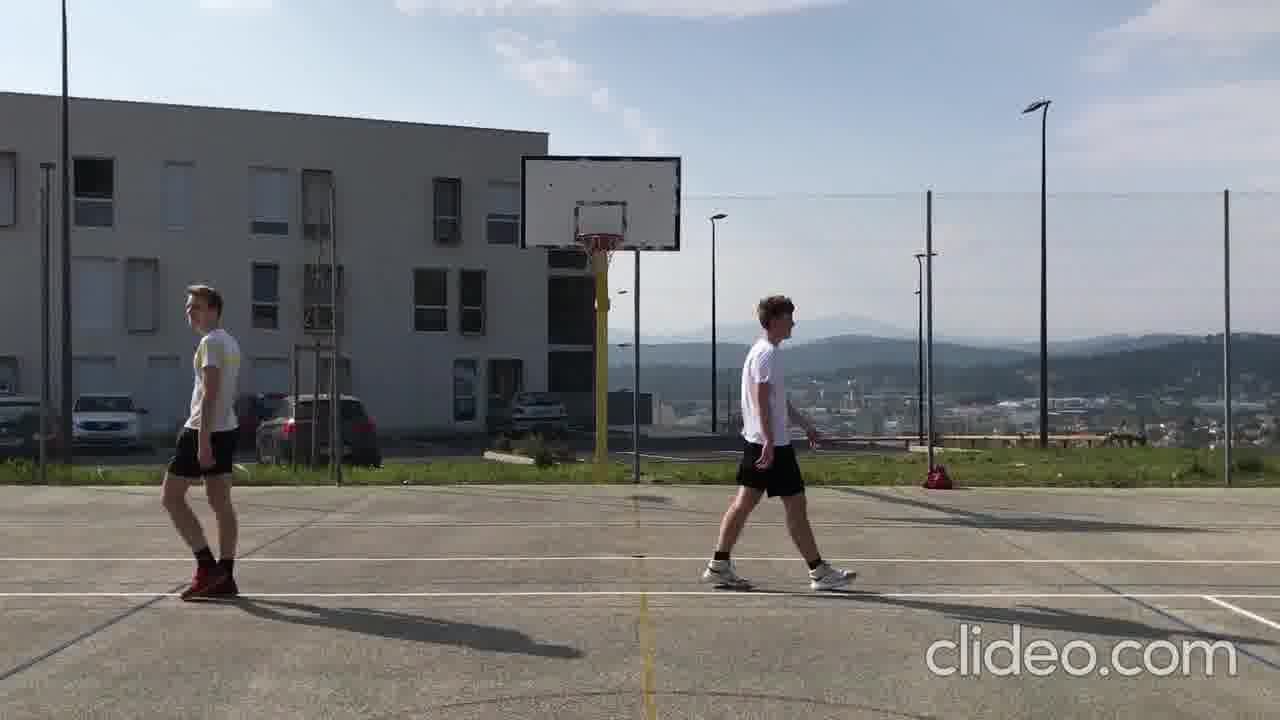jugador: (149, 273, 258, 616)
